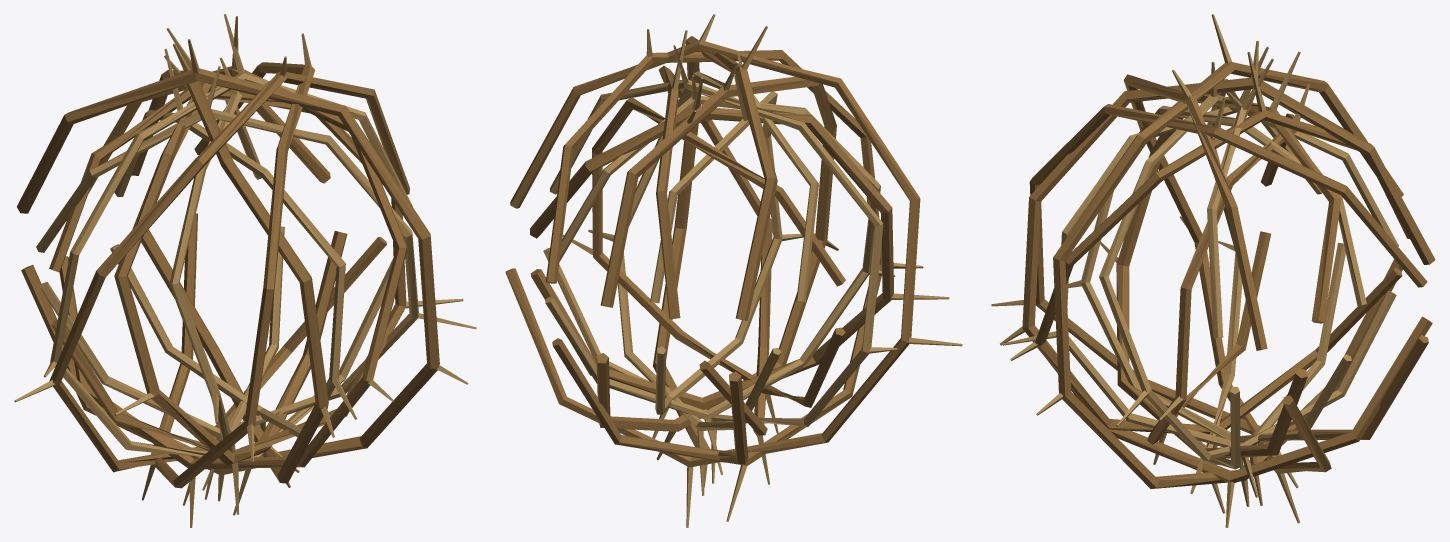
File: Prop_Desert_Tumbleweed_001.glb
3 views of the same model, side by side, from view 1: azimuth 30°, elevation 25°; view 2: azimuth 150°, elevation 25°; view 3: azimuth 270°, elevation 25° (orthographic). The views are drawn at different scales.
Visible parts, largest first — view 1: DS_Tumbleweed_Body; view 2: DS_Tumbleweed_Body; view 3: DS_Tumbleweed_Body.
Boxes of the visible parts, x1,y1,x2,y2 form: DS_Tumbleweed_Body: (14, 14, 476, 527); DS_Tumbleweed_Body: (505, 14, 962, 527); DS_Tumbleweed_Body: (991, 14, 1435, 527).
Bounding box in the file's own units: 1.15 × 1.27 × 1.04.
